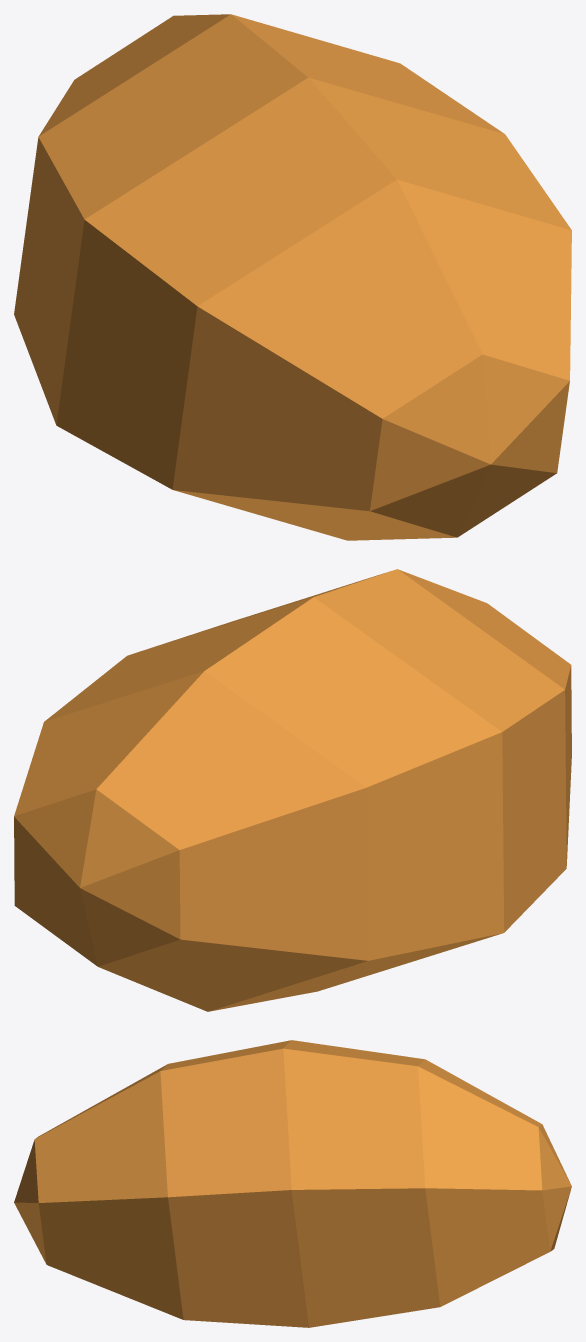
The model's file is Patato.fbx.
3 renders of one model, top to bottom at view 1: azimuth 30°, elevation 25°; view 2: azimuth 150°, elevation 25°; view 3: azimuth 270°, elevation 25°, orthographic. The views are drawn at different scales.
Visible parts, largest first — view 1: Patato_Piece, Patato_All; view 2: Patato_Piece, Patato_All; view 3: Patato_All, Patato_Piece.
Part boxes in pixels (x1=…): Patato_Piece: x1=14, y1=14, x2=490, y2=540; Patato_All: x1=85, y1=14, x2=571, y2=536; Patato_Piece: x1=80, y1=569, x2=571, y2=1011; Patato_All: x1=14, y1=569, x2=564, y2=966; Patato_All: x1=14, y1=1040, x2=571, y2=1327; Patato_Piece: x1=36, y1=1040, x2=569, y2=1182.
Size of the model in its own units: 6.52 by 5.95 by 10.72.
